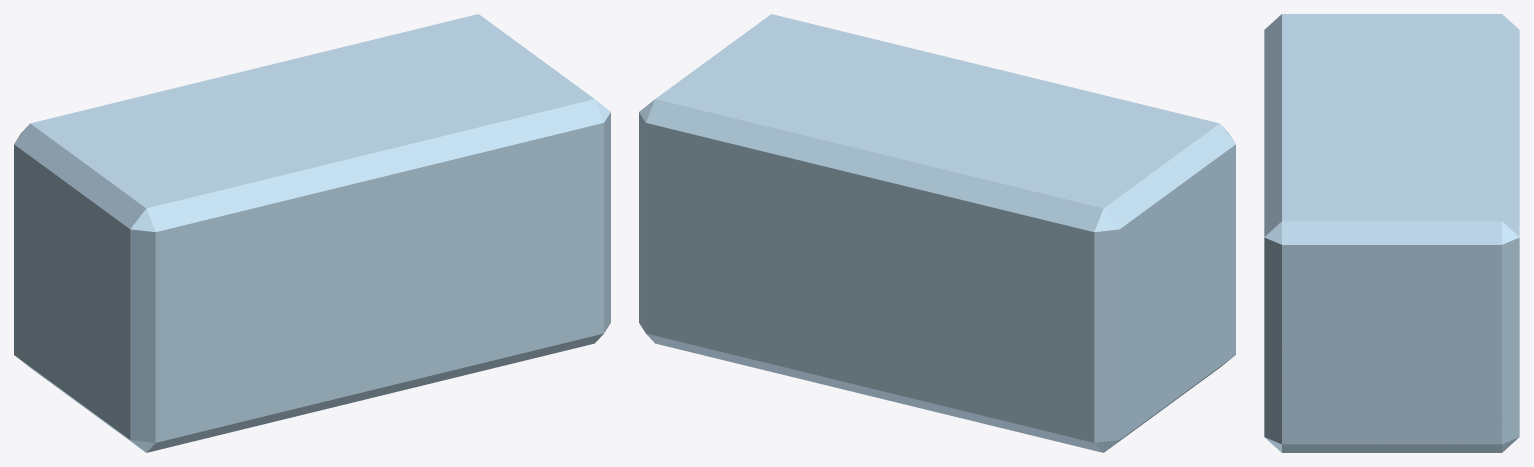
The model's file is R4B_Beam2.glb.
3 renders of one model, left to right at view 1: azimuth 30°, elevation 25°; view 2: azimuth 150°, elevation 25°; view 3: azimuth 270°, elevation 25°, orthographic. The views are drawn at different scales.
Visible parts, largest first — view 1: R4B_Beam2; view 2: R4B_Beam2; view 3: R4B_Beam2.
Part boxes in pixels (x1=…): R4B_Beam2: x1=14, y1=14, x2=610, y2=452; R4B_Beam2: x1=639, y1=14, x2=1235, y2=452; R4B_Beam2: x1=1264, y1=14, x2=1519, y2=452.
Bounding box in the file's own units: 1.07 × 0.52 × 0.52.
